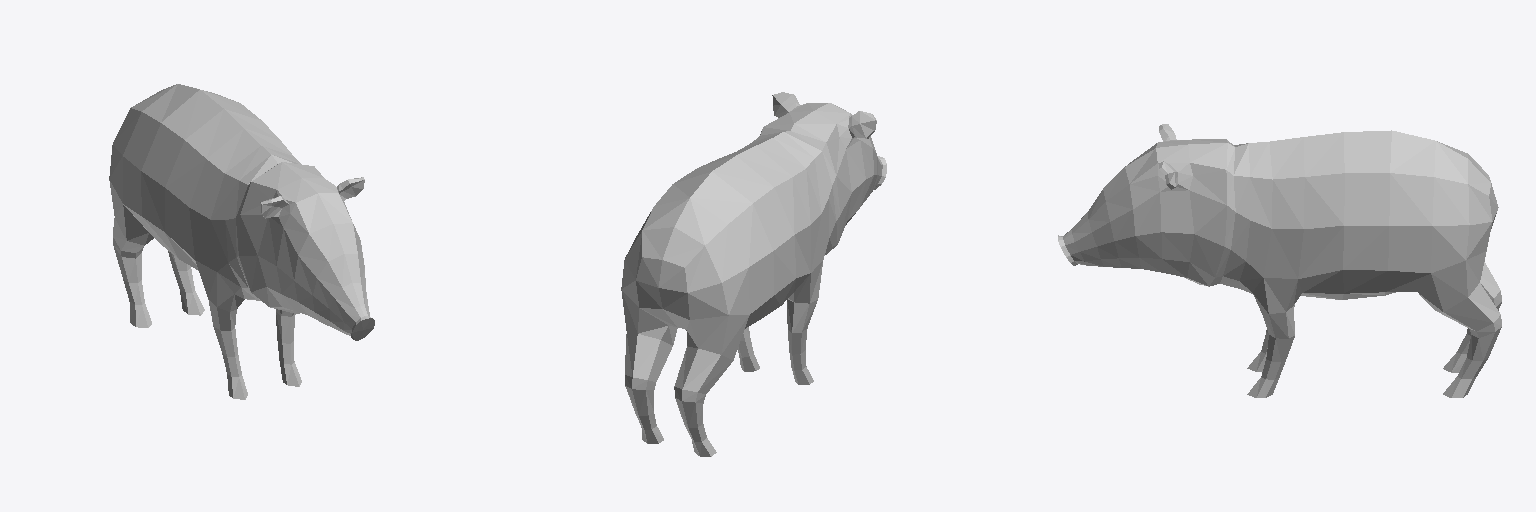
File: pig_noclean.obj
3 views of the same model, side by side, from view 1: azimuth 30°, elevation 25°; view 2: azimuth 150°, elevation 25°; view 3: azimuth 270°, elevation 25° (orthographic).
Bounding box in the file's own units: 0.7042 × 1.4 × 2.25.